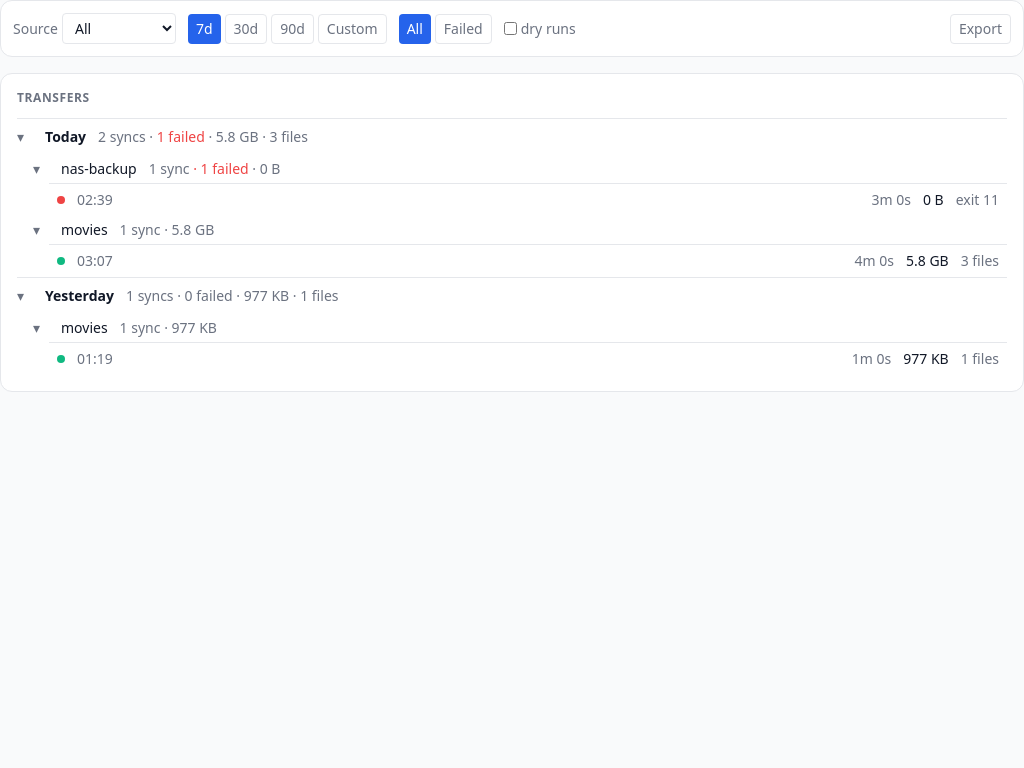
Scenario: TransfersPage (AC-009–AC-012) › renders grouped days and sources with rollups and expands a sync inline
The image size is (1024, 768).
Expected: the element with test id "transfer-day" shows "Today", top-left (17, 119), bottom-right (1007, 155)
Expected: the element with test id "transfer-day" shows "2 syncs · 1 failed", top-left (17, 118), bottom-right (1007, 277)
Click the button "02:39 3m 0s 0 B exit 11" at {"x": 74, "y": 209}, box top-left (49, 184), bottom-right (1007, 216)
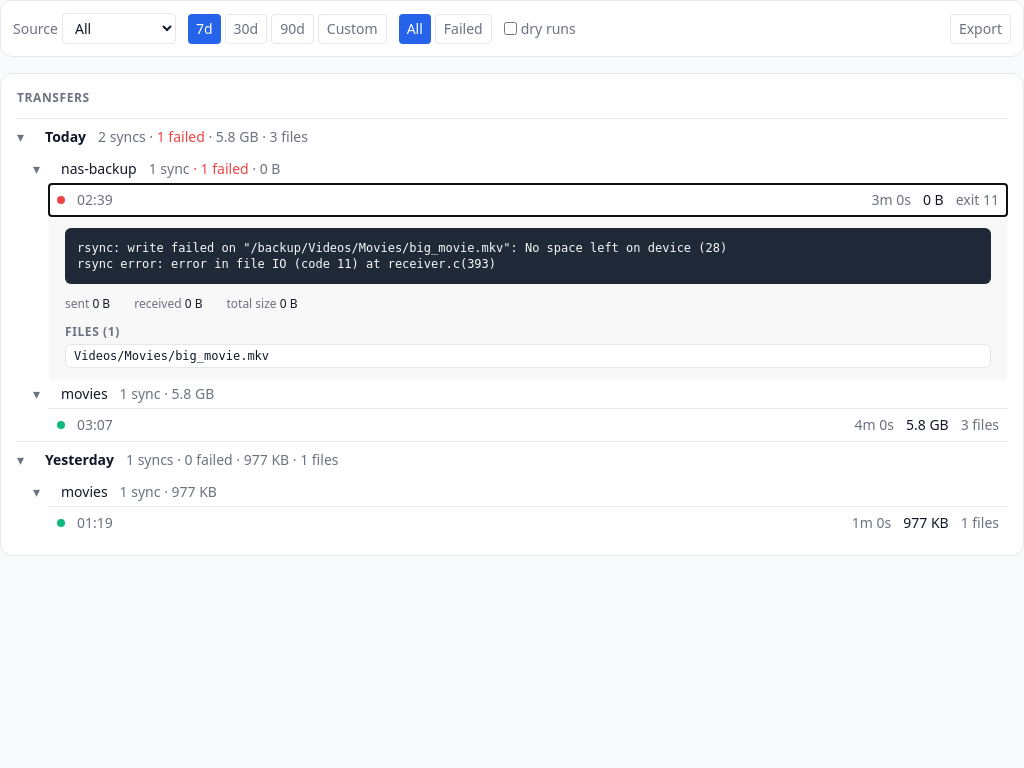
Now the element with test id "sync-detail" shows "No space left", box top-left (77, 241), bottom-right (727, 271)
